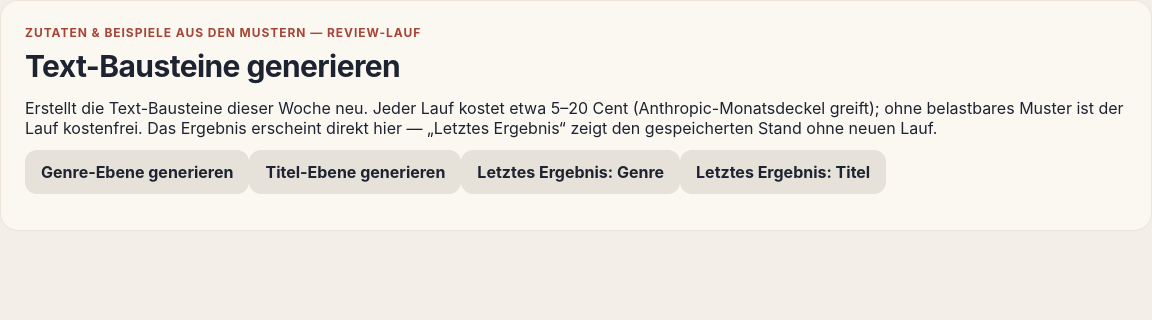
Test: BriefingSection › generiert die Titel-Ebene und meldet Bausteine samt Kosten
Click the button "Titel-Ebene generieren" at (355, 172), box [250,150,461,194]
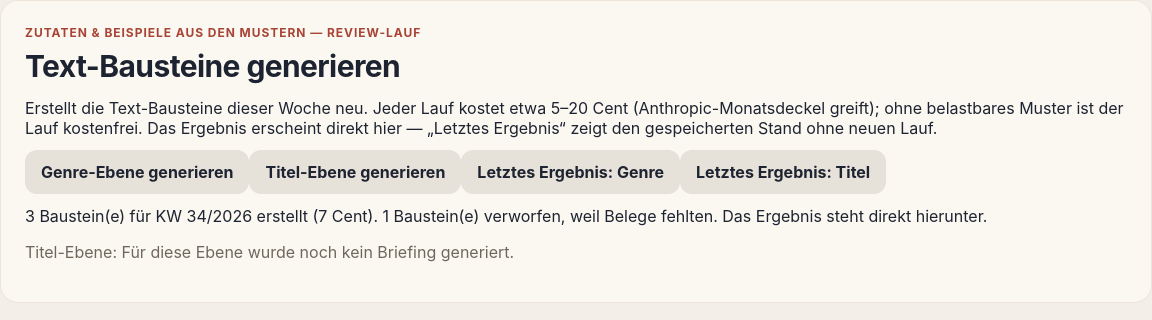
expect the text "1 Baustein(e) verworfen, weil Belege fehlten" is shown: met, box [25,206,987,226]
